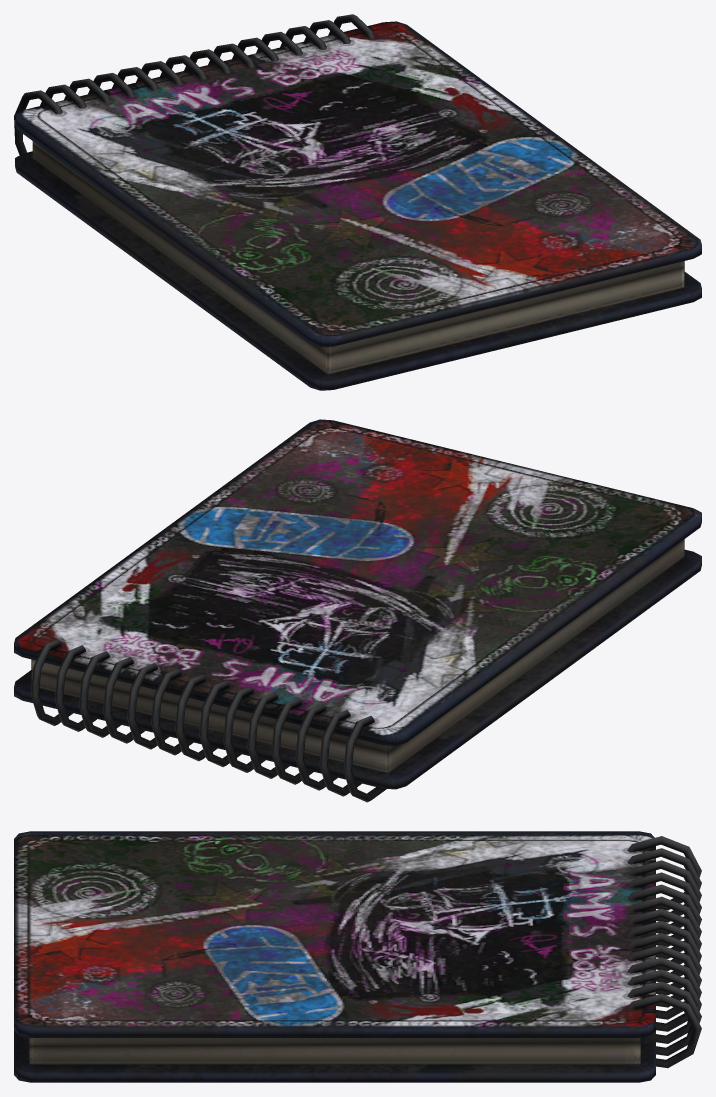
File: amy_sketchpad.dae
3 renders of one model, top to bottom at view 1: azimuth 30°, elevation 25°; view 2: azimuth 150°, elevation 25°; view 3: azimuth 270°, elevation 25°, orthographic. The views are drawn at different scales.
Visible parts, largest first — view 1: polySurface36; view 2: polySurface36; view 3: polySurface36.
Part boxes in pixels (bbox=[...]): polySurface36: bbox=[14, 14, 701, 390]; polySurface36: bbox=[14, 419, 701, 802]; polySurface36: bbox=[14, 831, 701, 1082].
Size of the model in its own units: 23.72 by 4.49 by 35.02.
